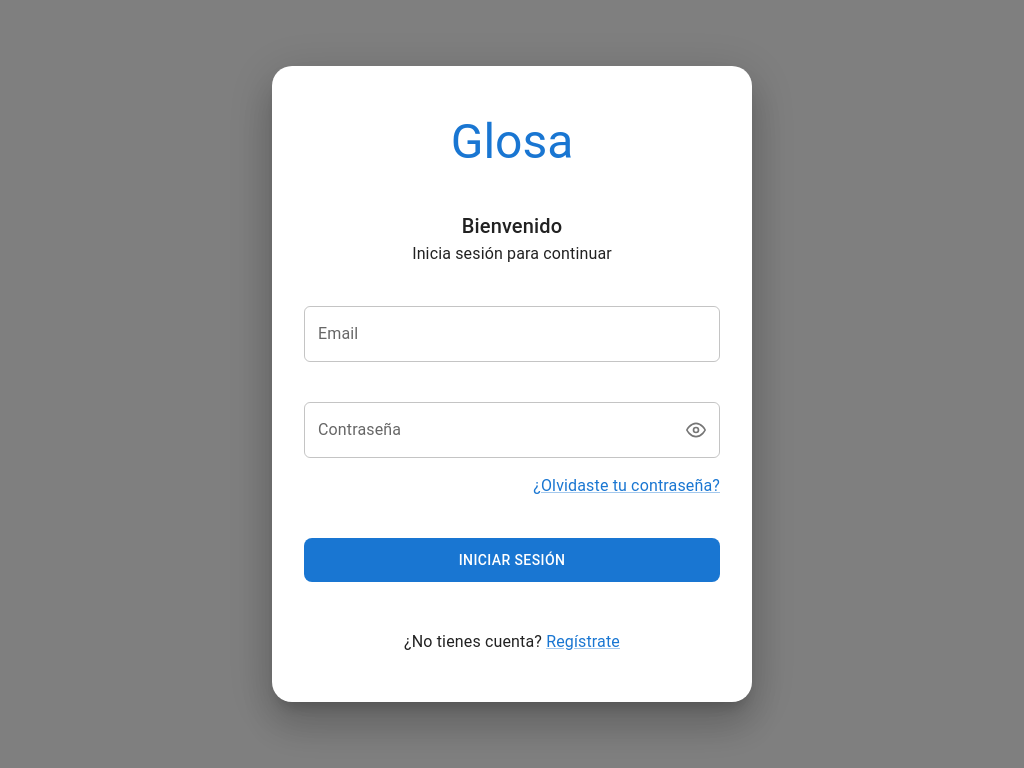
Scenario: Given the login page › When the API answers AUTH_INVALID_CREDENTIALS › Then a generic error is shown and the user stays on the page
The image size is (1024, 768).
Step 1. Type "isa@example.com" into the field labelled "Email" → x=512, y=334, box [304,306,720,362]
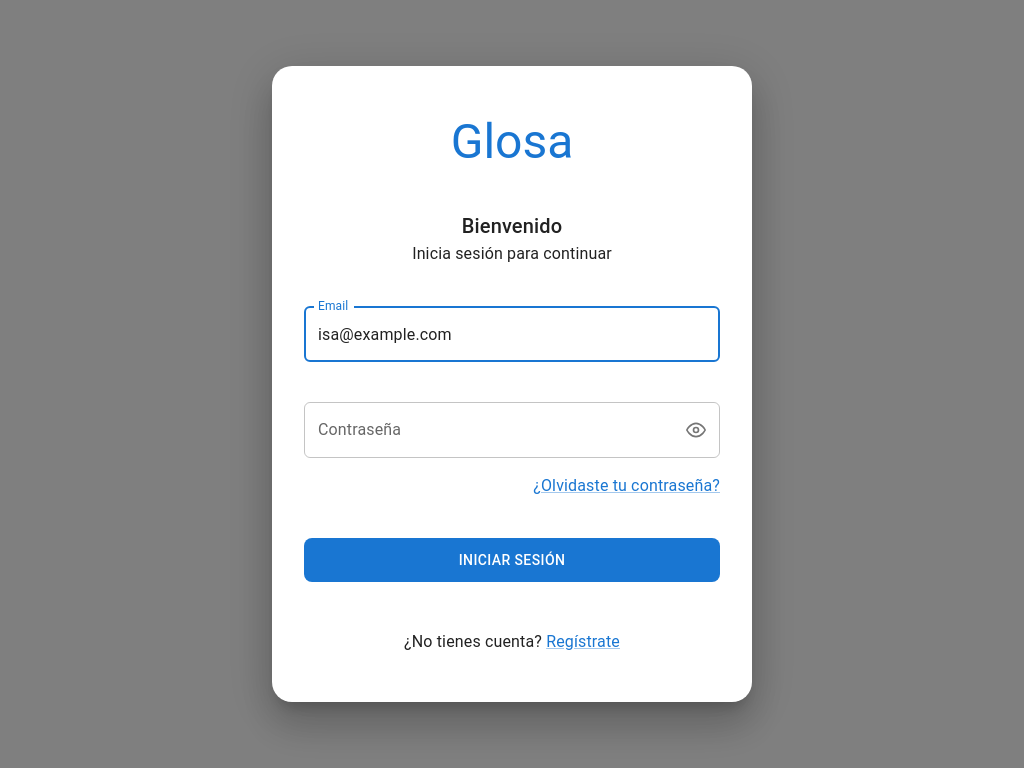
Step 2. Type "Secreta1!" into the password field labelled "Contraseña" → x=485, y=430, box [304,402,666,458]
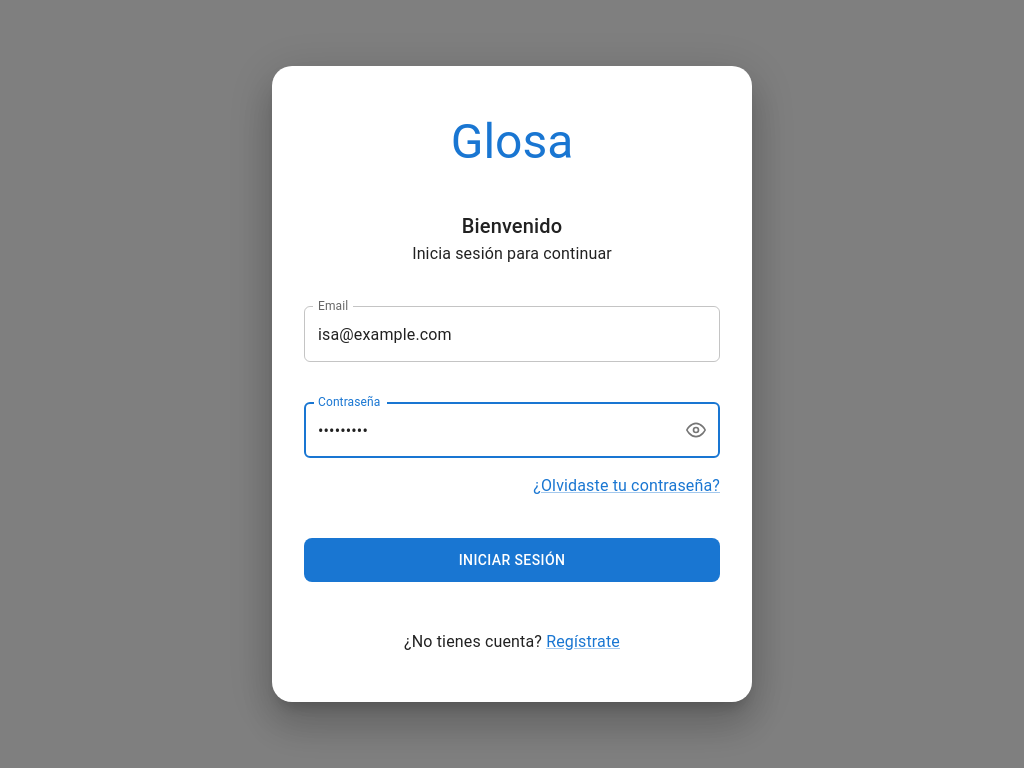
Step 3. Click the button "Iniciar sesión" → x=512, y=560, box [304,538,720,582]
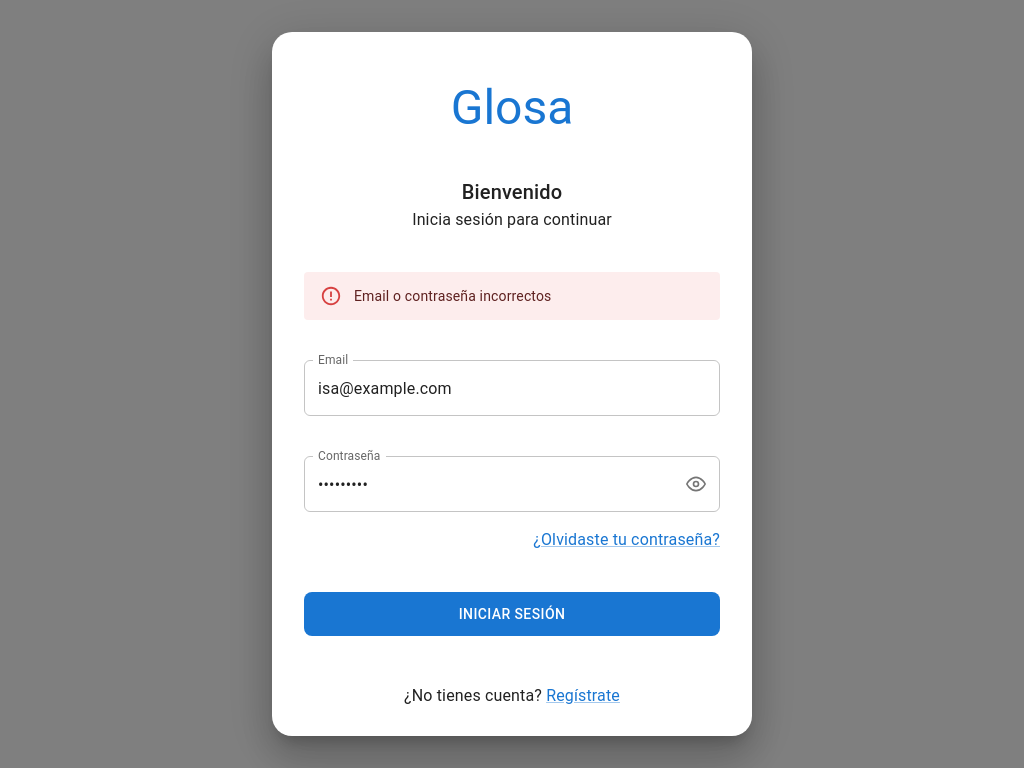
Now the message reads "Email o contraseña incorrectos", box [354,288,552,304]
